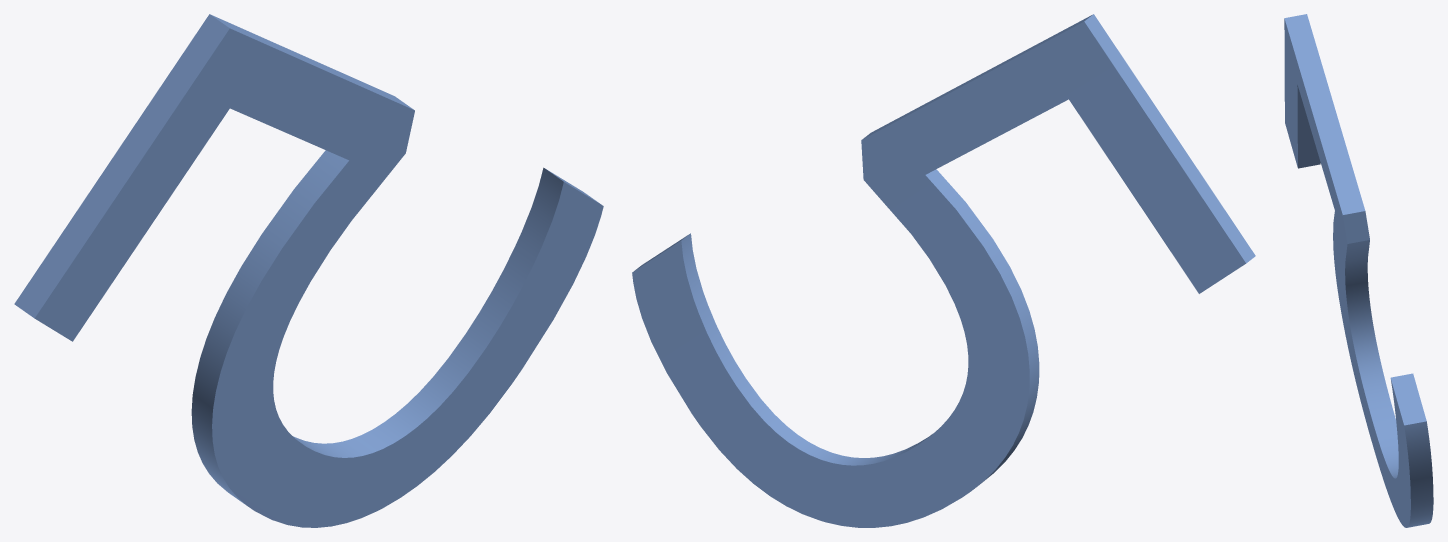
Rendered from New_Number_5.gltf.
The picture shows the model from 3 angles, left to right: view 1: azimuth 30°, elevation 25°; view 2: azimuth 150°, elevation 25°; view 3: azimuth 270°, elevation 25°; orthographic projection. The views are drawn at different scales.
Parts seen in each view (by area): view 1: Part 437; view 2: Part 437; view 3: Part 437.
Boxes of the visible parts, box(x1,y1,x2,y2) form: Part 437: box(14, 14, 603, 527); Part 437: box(632, 14, 1255, 527); Part 437: box(1284, 14, 1433, 527).
Bounding box in the file's own units: 0.00593 × 0.00519 × 0.00164.
